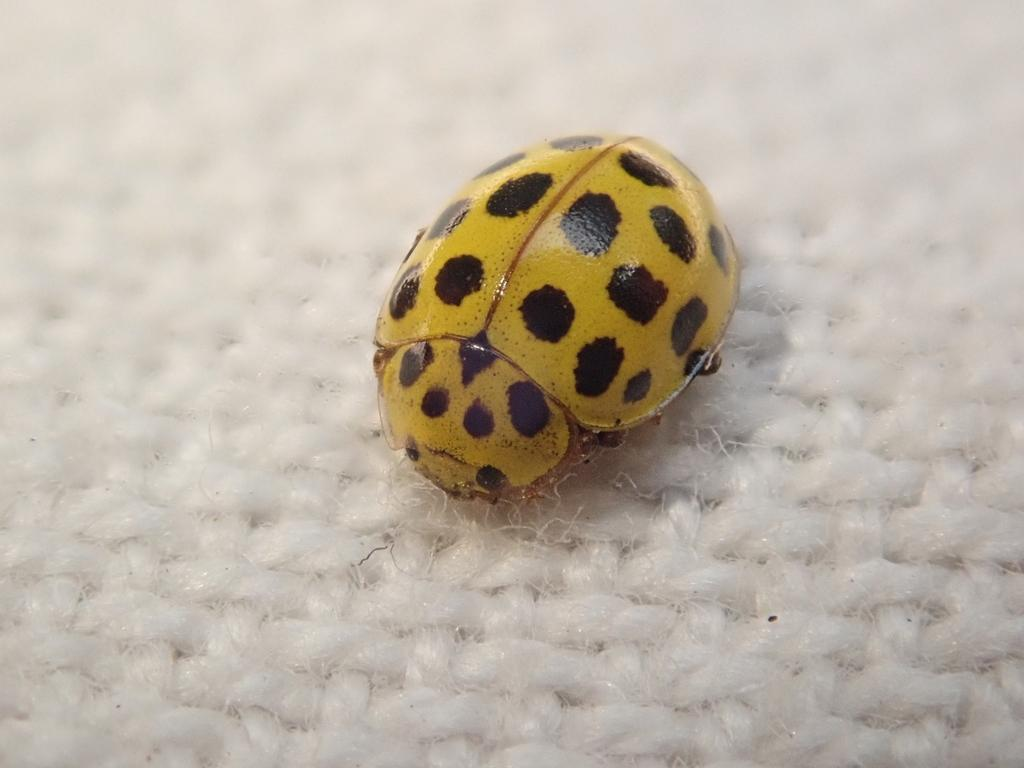ladybug: (373, 131, 747, 507)
